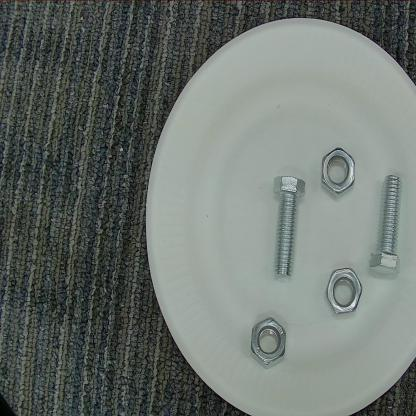FOD: (264, 173, 309, 285), (368, 164, 404, 282), (316, 139, 358, 203), (322, 262, 363, 324), (247, 314, 290, 373)
